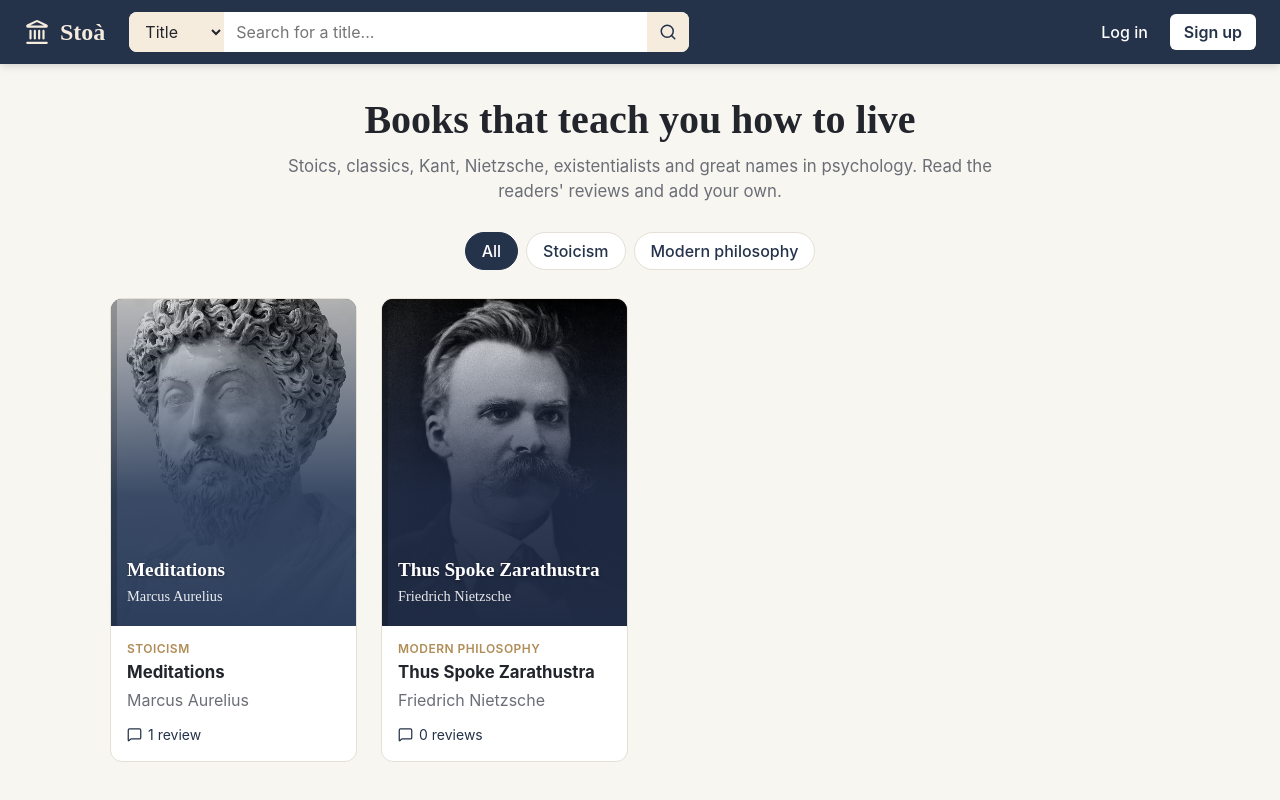
catalog › filters the catalog by category
Click the button "Stoicism": (576, 251) [526, 232, 626, 270]
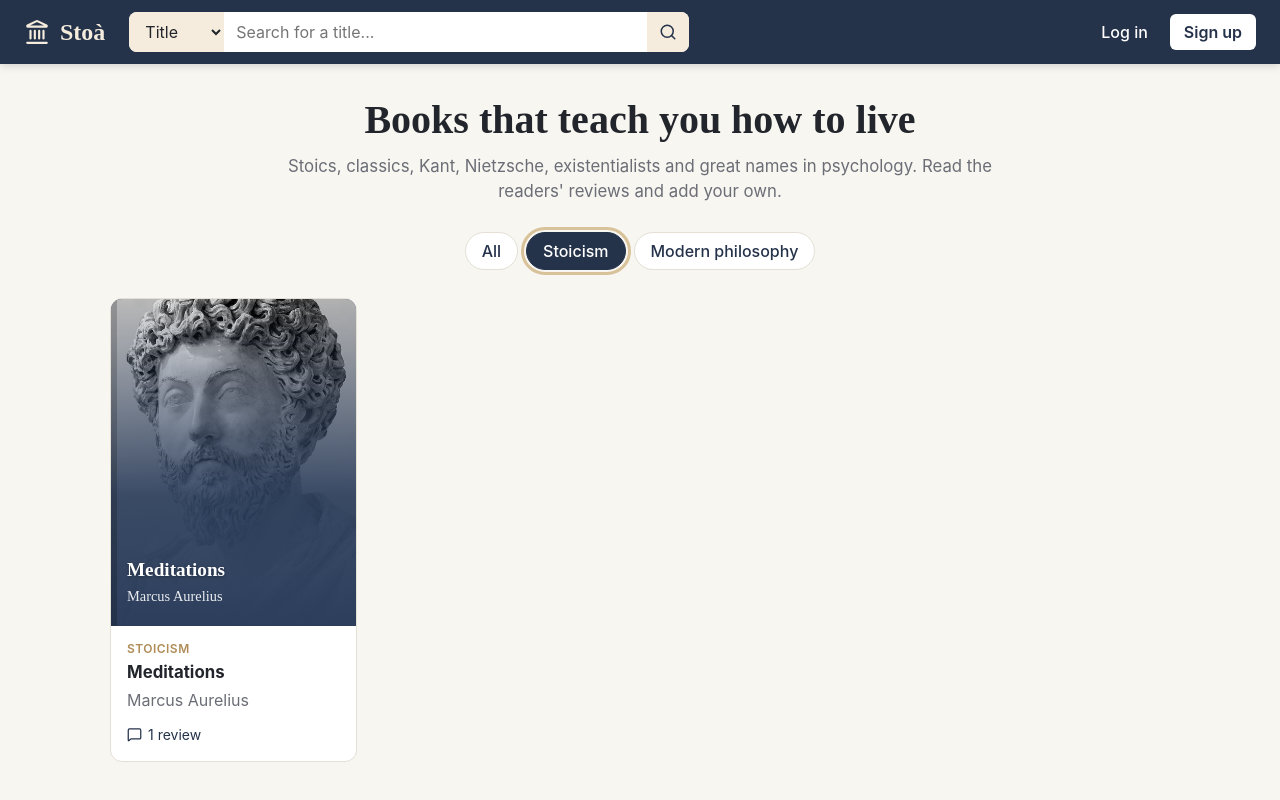
expect the heading "Meditations" is shown: met, box [127, 662, 225, 682]
expect the link "Thus Spoke Zarathustra" is gone: met
